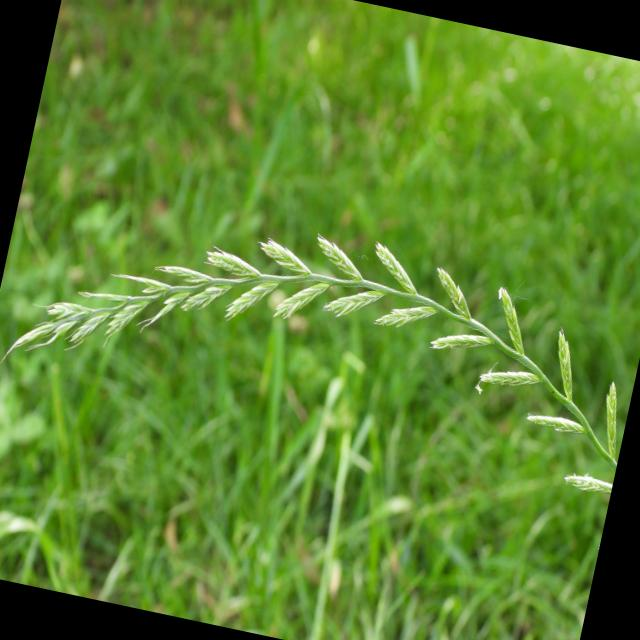Lolium: (0, 165, 640, 504)
